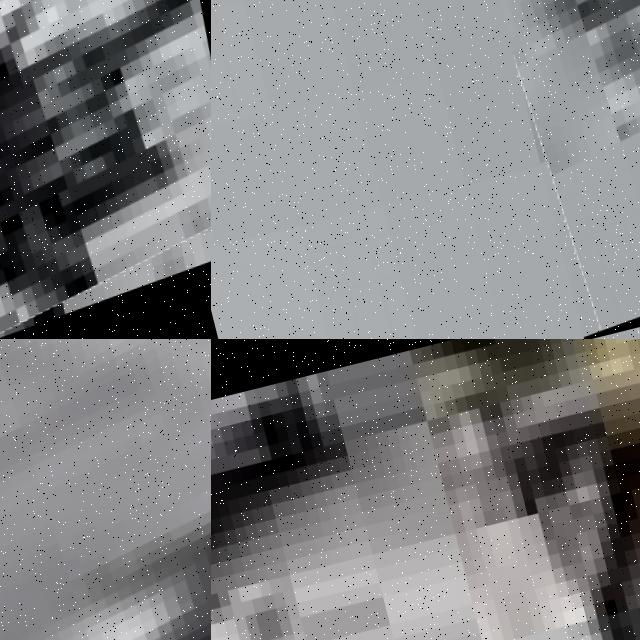drone: (0, 0, 211, 339), (438, 0, 640, 339), (0, 339, 211, 640)
